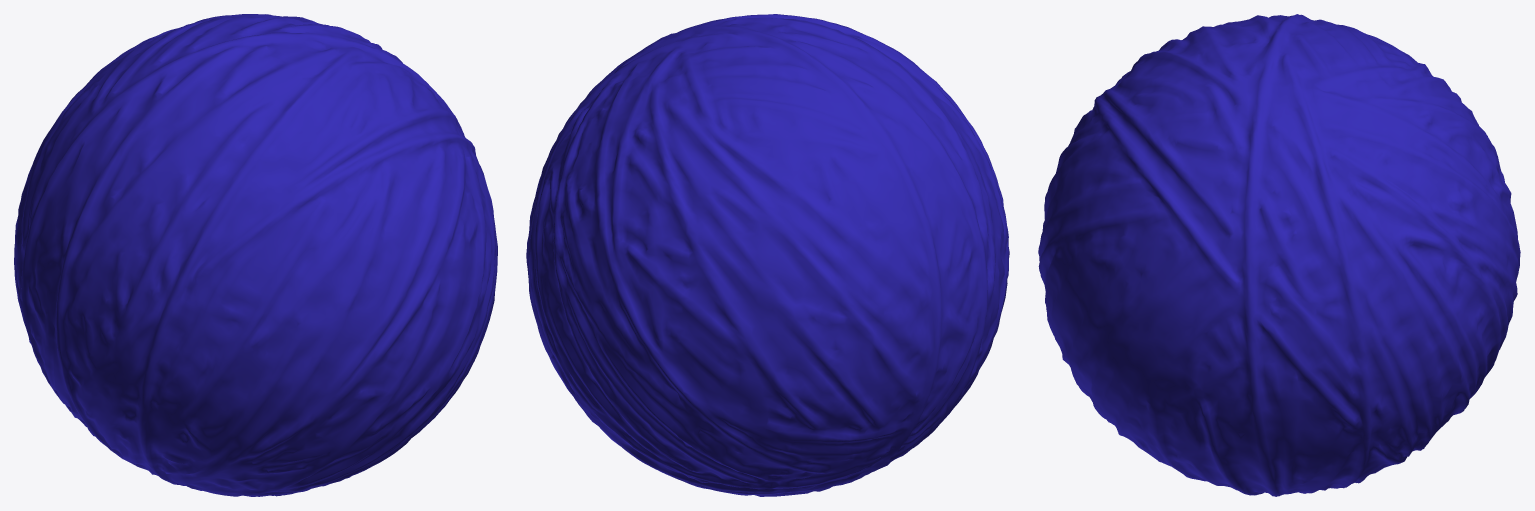
3 renders of one model, left to right at view 1: azimuth 30°, elevation 25°; view 2: azimuth 150°, elevation 25°; view 3: azimuth 270°, elevation 25°, orthographic.
Visible parts, largest first — view 1: SM_Globe6HD_retopo_blinn2_0_4; view 2: SM_Globe6HD_retopo_blinn2_0_4; view 3: SM_Globe6HD_retopo_blinn2_0_4.
Part boxes in pixels (x1=…): SM_Globe6HD_retopo_blinn2_0_4: x1=14, y1=14, x2=497, y2=496; SM_Globe6HD_retopo_blinn2_0_4: x1=526, y1=14, x2=1009, y2=496; SM_Globe6HD_retopo_blinn2_0_4: x1=1038, y1=14, x2=1520, y2=496.
Size of the model in its own units: 0.5161 by 0.5172 by 0.5161.
